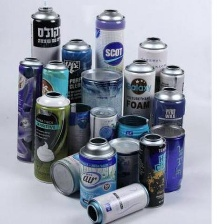aerosol_cans: (27, 2, 63, 113), (31, 89, 72, 185), (37, 57, 73, 158), (13, 55, 44, 166), (76, 135, 119, 213), (144, 120, 186, 195), (92, 6, 126, 95), (59, 35, 92, 124), (148, 85, 187, 155), (135, 131, 168, 210), (135, 34, 170, 100), (122, 55, 153, 126), (157, 60, 188, 131)
can: (78, 64, 125, 140), (83, 179, 153, 224), (53, 100, 96, 155), (113, 111, 153, 167), (106, 132, 143, 187), (87, 105, 120, 164)
